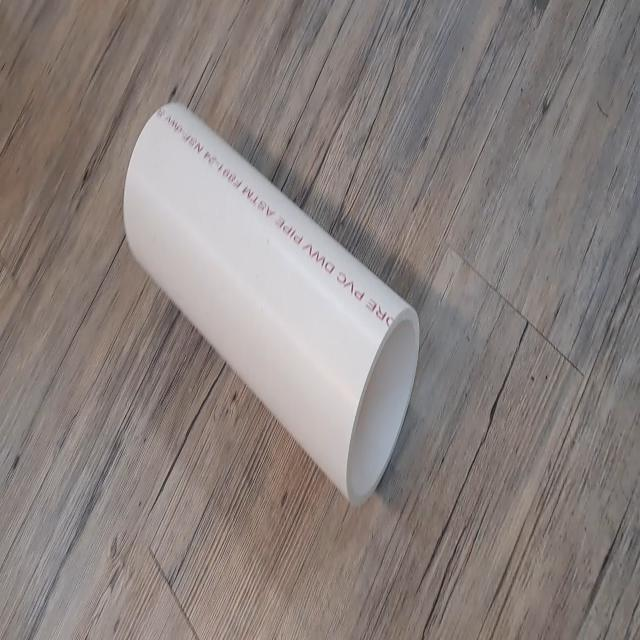CORAL: (115, 95, 424, 512)
